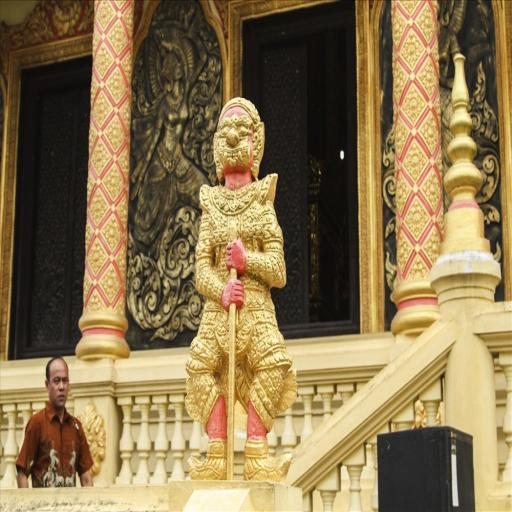hoa: (402, 139, 428, 182), (404, 193, 429, 237), (400, 28, 426, 70), (401, 80, 427, 122), (416, 53, 440, 98), (423, 224, 445, 268), (418, 166, 442, 206), (102, 162, 126, 201), (103, 63, 126, 102), (99, 264, 124, 299), (390, 168, 410, 211), (390, 58, 409, 103), (104, 115, 126, 153), (418, 3, 438, 43), (393, 114, 411, 158), (396, 228, 413, 274), (419, 110, 439, 148), (91, 138, 112, 173), (94, 0, 117, 31), (91, 92, 113, 124), (107, 18, 127, 53), (88, 239, 107, 275), (94, 43, 114, 77), (119, 1, 137, 37), (118, 142, 132, 185), (84, 289, 106, 316), (119, 49, 135, 86), (390, 10, 407, 44), (104, 214, 120, 248), (116, 192, 130, 229), (91, 191, 107, 223), (83, 214, 95, 255), (121, 94, 133, 135), (114, 244, 128, 279), (430, 36, 442, 70), (88, 22, 100, 54), (86, 120, 96, 158), (398, 0, 422, 15), (87, 164, 95, 205), (90, 65, 98, 106), (83, 268, 94, 296)
la: (159, 206, 202, 280), (468, 56, 502, 149), (126, 253, 164, 332), (478, 152, 502, 208), (381, 171, 399, 240), (178, 286, 204, 328), (380, 123, 397, 172), (384, 248, 399, 290), (154, 324, 178, 344)
than: (178, 94, 307, 482), (134, 27, 210, 232)
